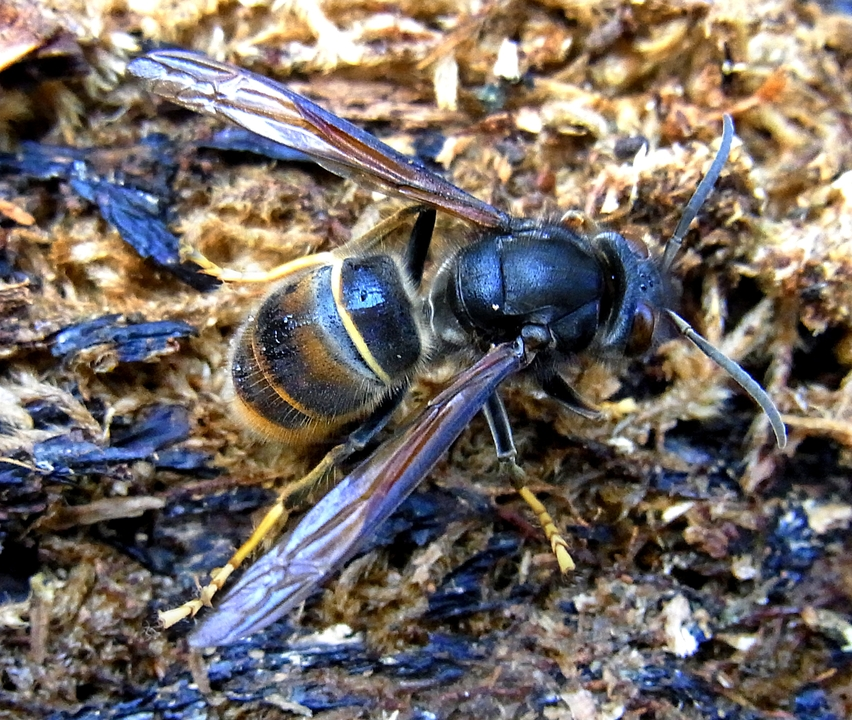hornet: (145, 156, 810, 489)
